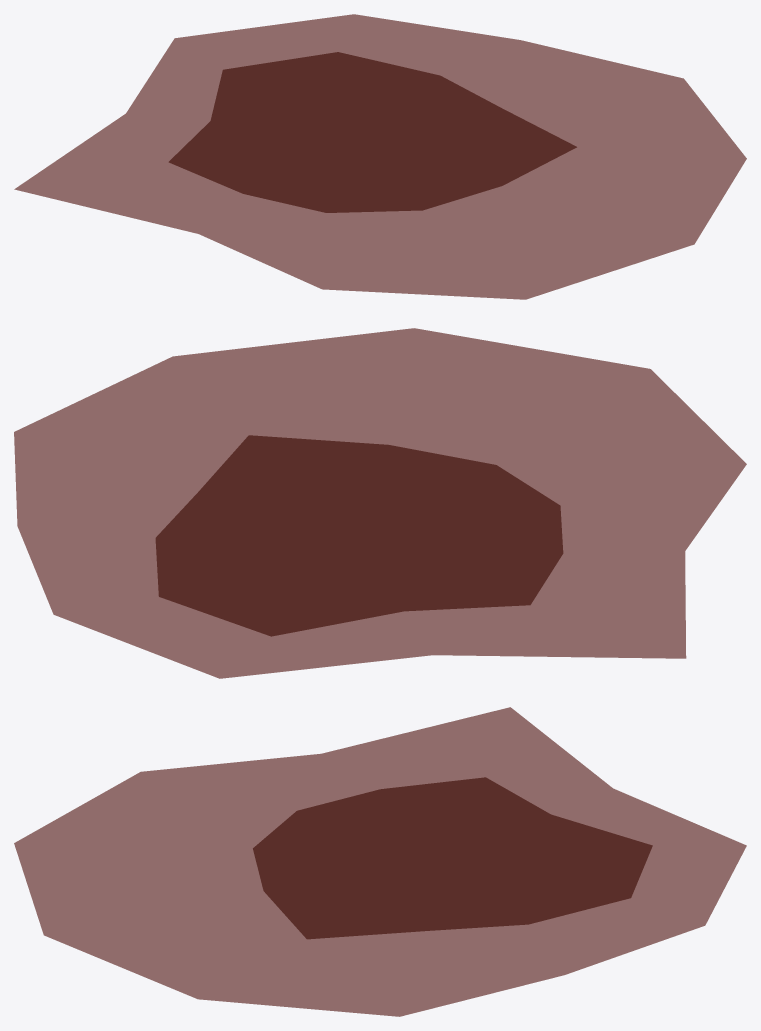
Rendered from blood_snow_frozen.glb.
The picture shows the model from 3 angles, top to bottom: view 1: azimuth 30°, elevation 25°; view 2: azimuth 150°, elevation 25°; view 3: azimuth 270°, elevation 25°; orthographic projection. The views are drawn at different scales.
Parts seen in each view (by area): view 1: blood_snow_frozen; view 2: blood_snow_frozen; view 3: blood_snow_frozen.
Boxes of the visible parts, bbox=[...] form: blood_snow_frozen: bbox=[14, 14, 746, 299]; blood_snow_frozen: bbox=[14, 328, 746, 678]; blood_snow_frozen: bbox=[14, 707, 746, 1016].
Size of the model in its own units: 1.5 by 0.003 by 1.5.
